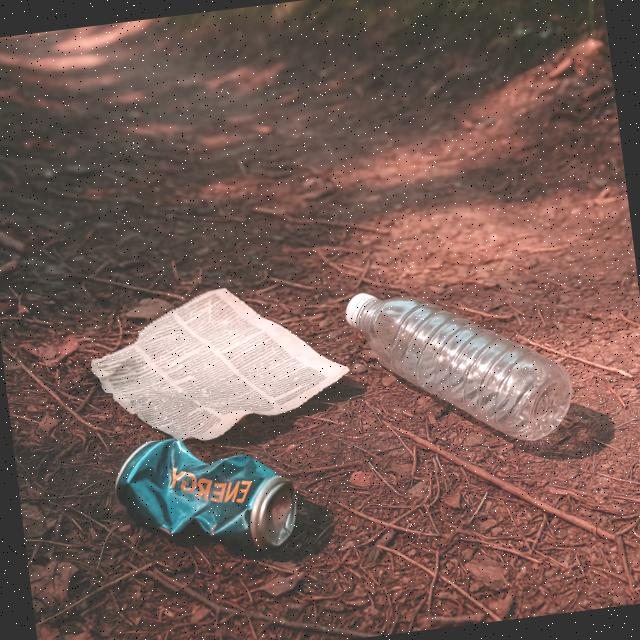aluminum: (106, 419, 310, 564)
plastic: (344, 266, 581, 458)
